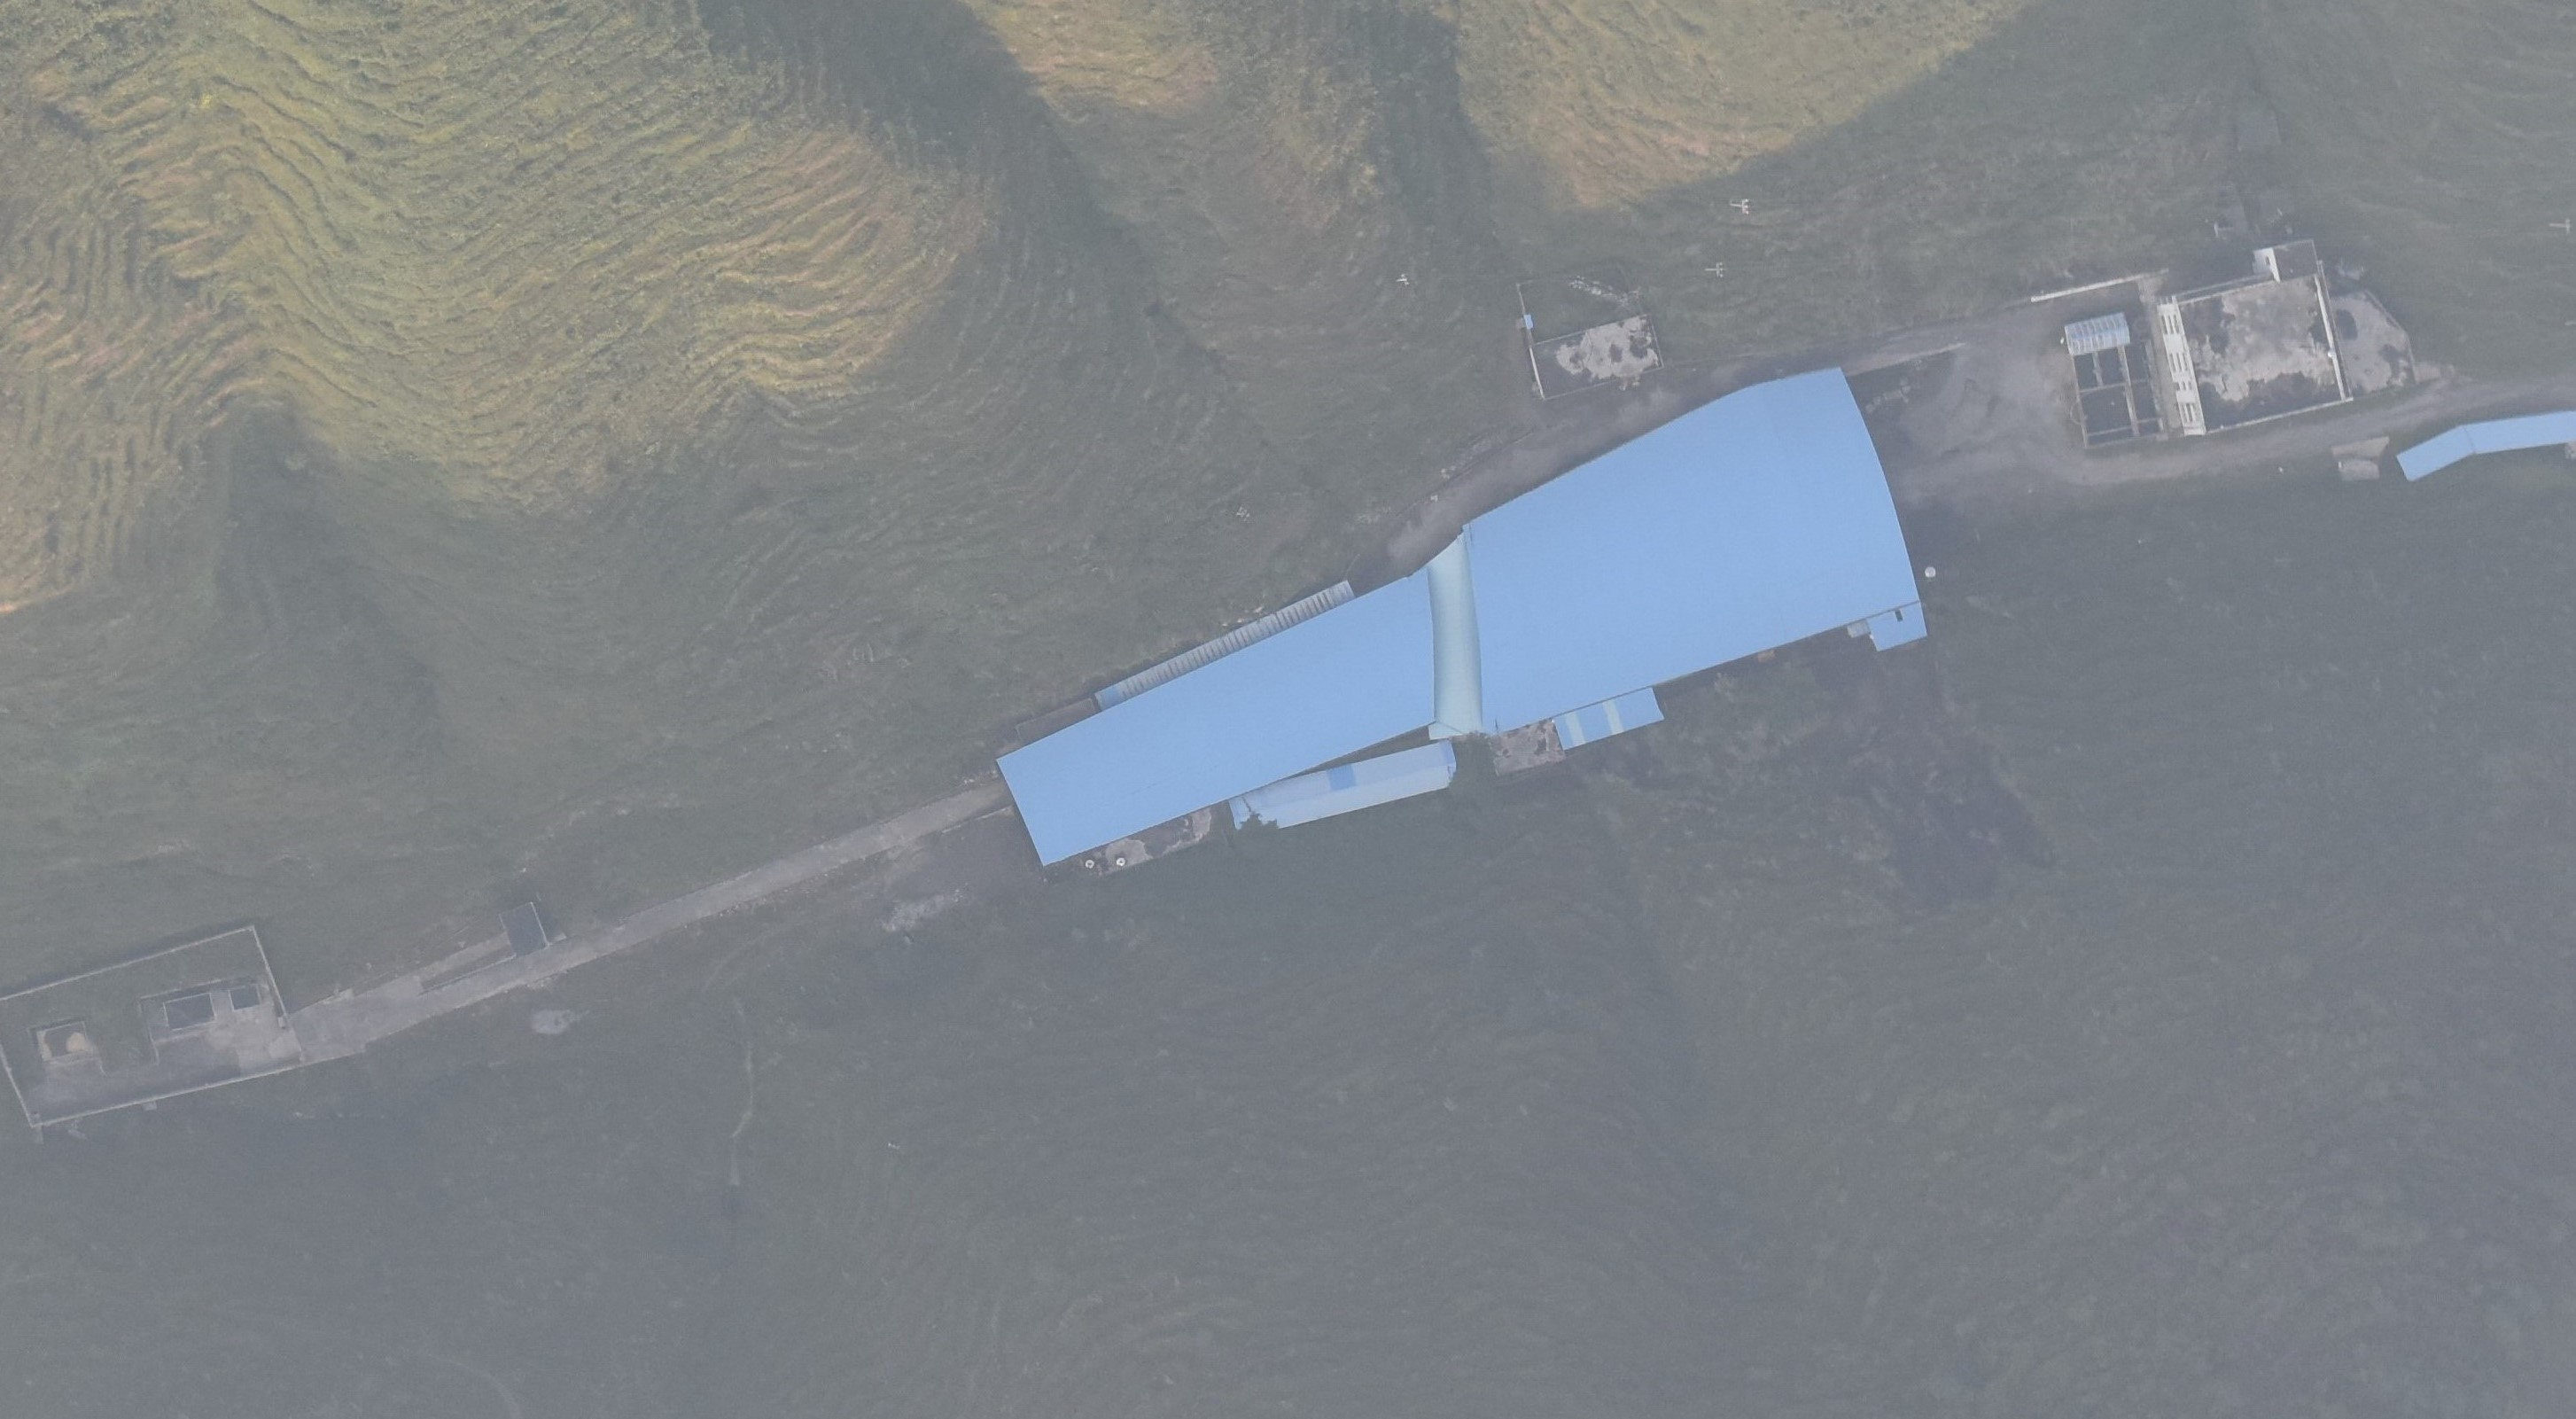building: (2155, 234, 2382, 451), (1525, 309, 1684, 409), (2061, 306, 2150, 365), (499, 902, 550, 959), (35, 1019, 89, 1059), (162, 991, 217, 1031), (227, 984, 265, 1014)
cable-tower: (1727, 194, 1755, 220), (1705, 260, 1732, 285), (2545, 215, 2574, 234), (1392, 271, 1413, 290)
prefabricated-house: (908, 360, 1937, 886), (1221, 734, 1467, 835), (2396, 411, 2571, 484), (1547, 687, 1677, 762)
